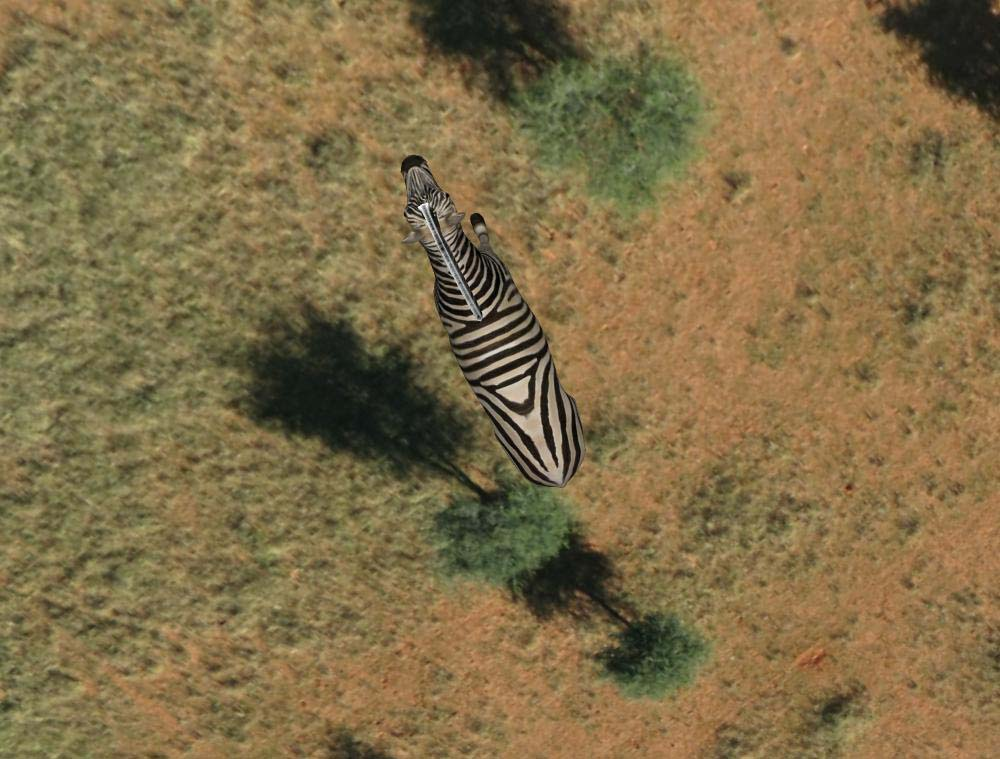zebra: (391, 150, 594, 486)
